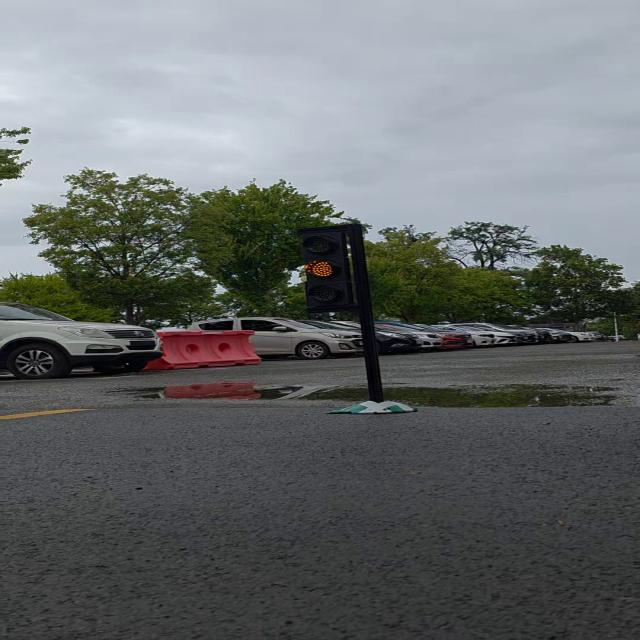yellow: (293, 218, 363, 314)
